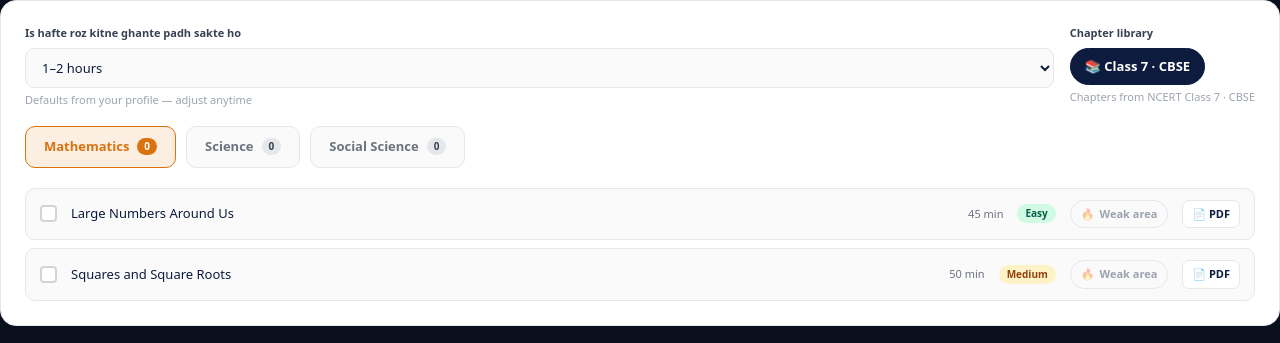
Test case: TC-25: switching subject tabs shows that subject's chapters › shows Social Science chapters after clicking that tab
Click the button "Social Science 0" at (388, 147), box [310,126,465,168]
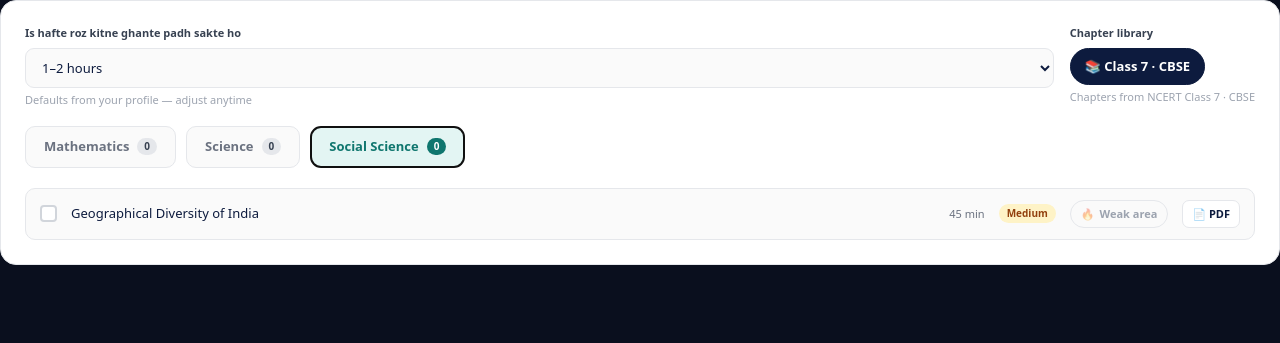
Expected: the text "Geographical Diversity of India" is shown, [71,204,259,222]
